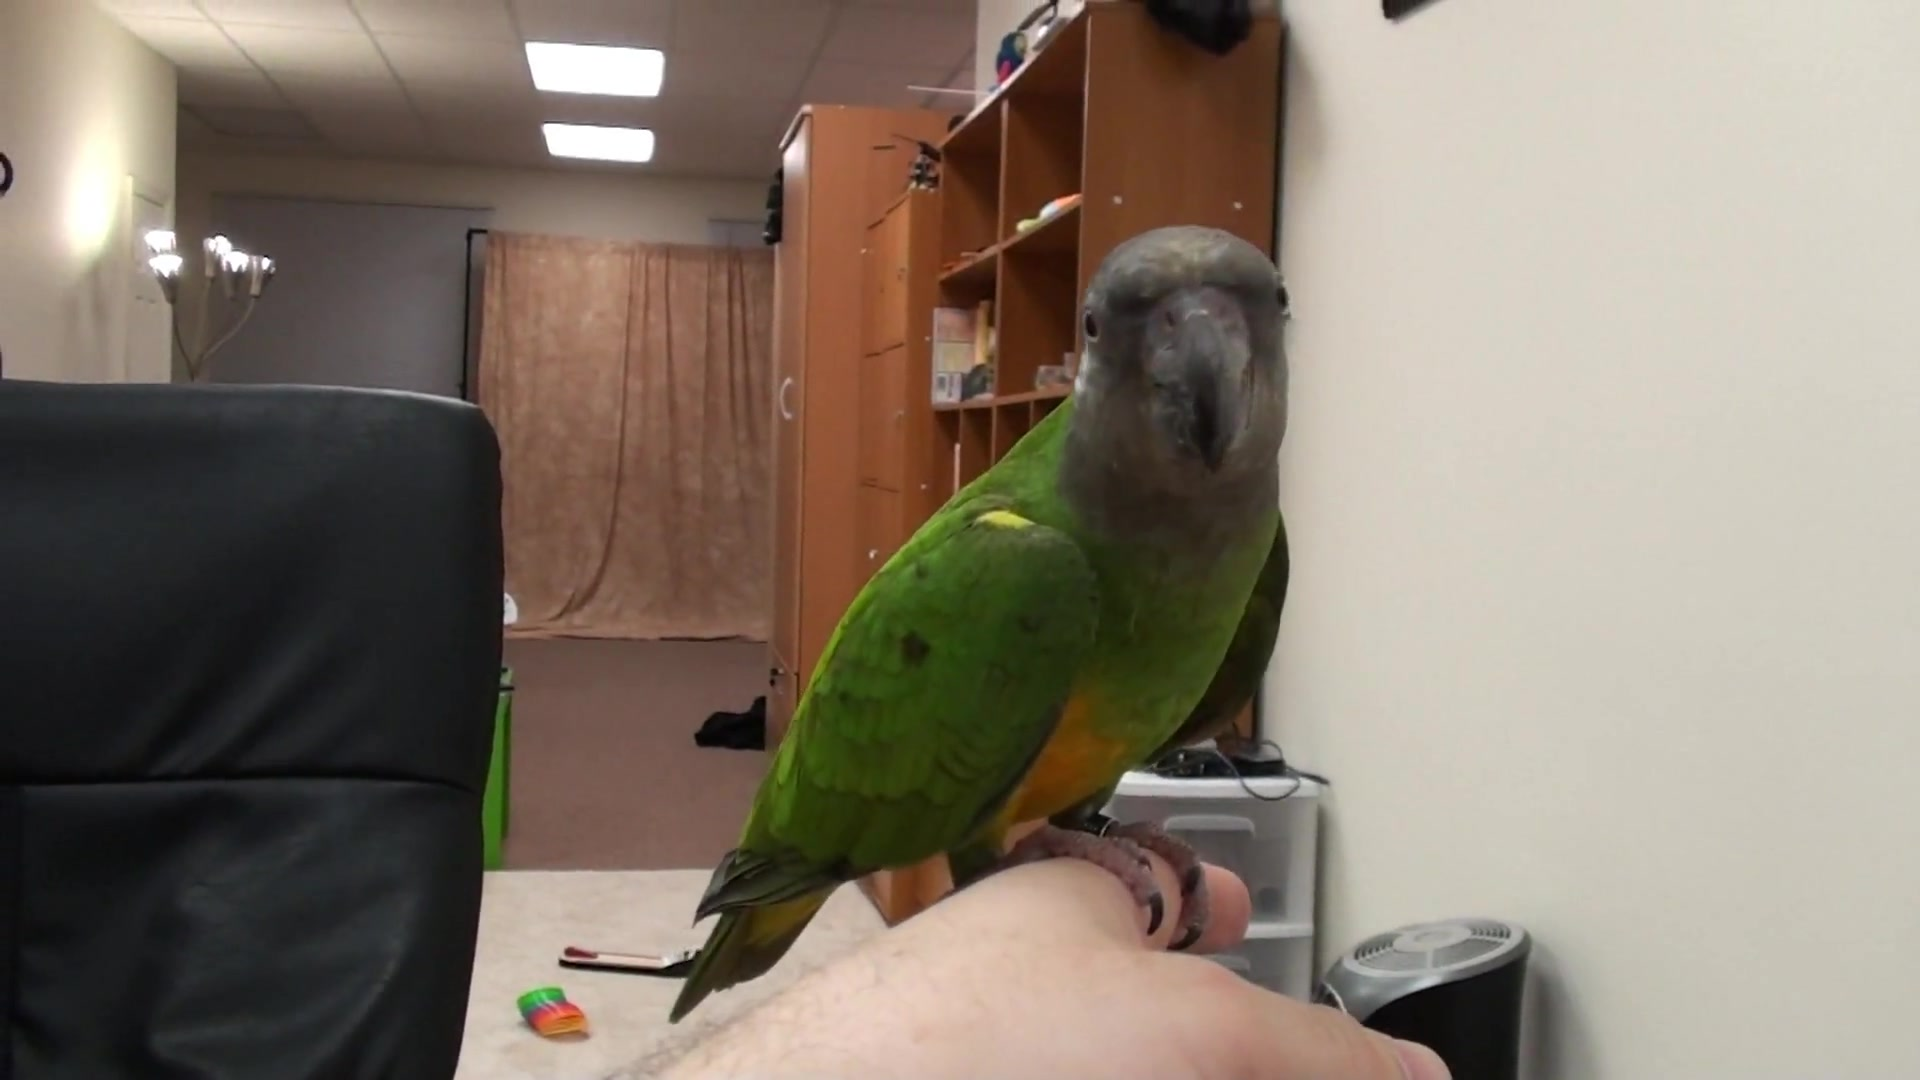bird: (669, 223, 1295, 1025)
